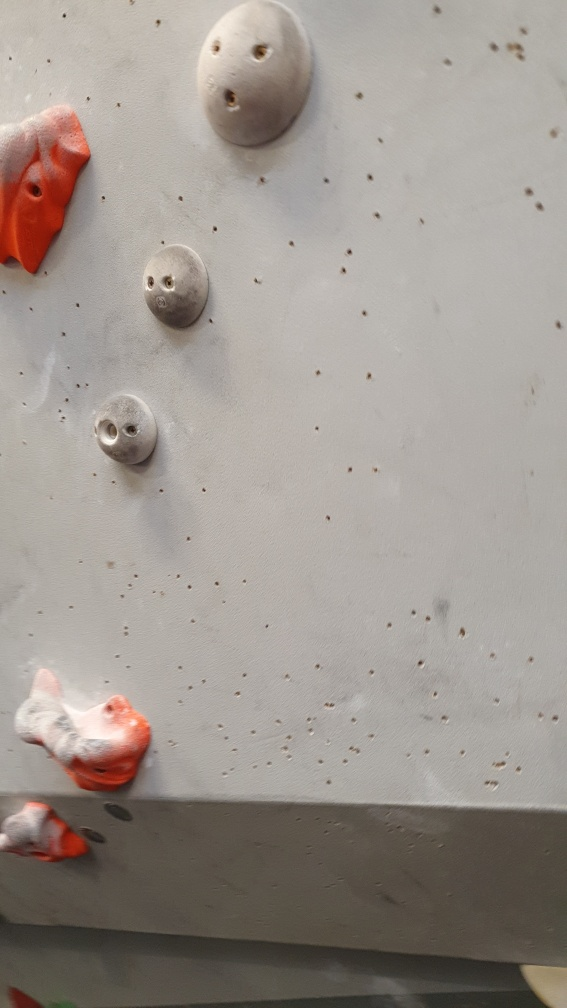Hand Start: (101, 793, 136, 828), (75, 818, 109, 847)
Jug: (1, 102, 105, 280), (11, 663, 152, 790)
Sloper: (194, 1, 319, 153), (138, 240, 211, 329), (88, 388, 166, 471)
